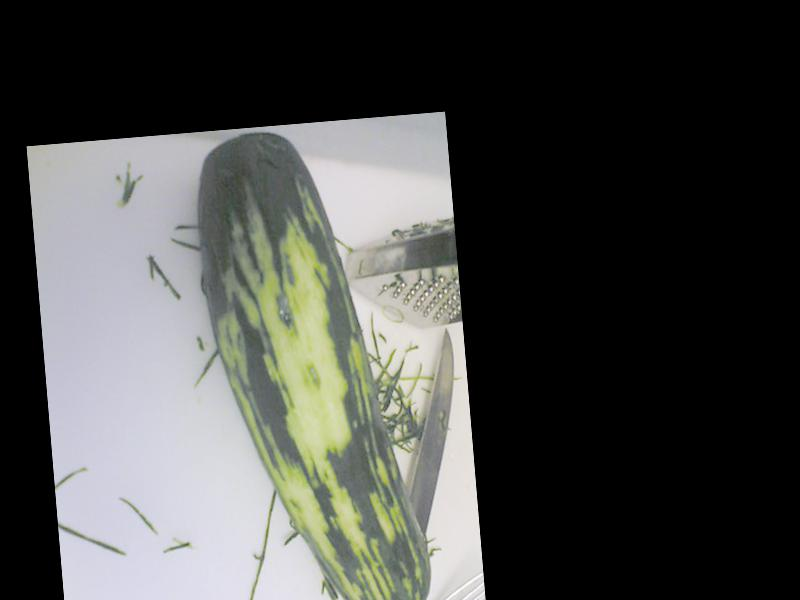Cucumber: (189, 120, 436, 600)
